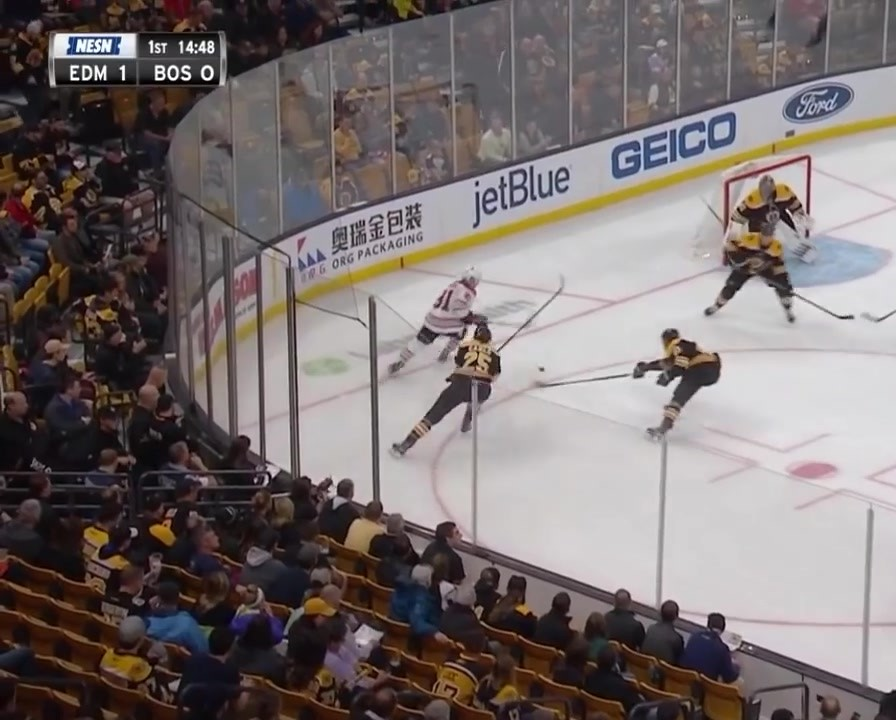Geico: (608, 104, 748, 188)
